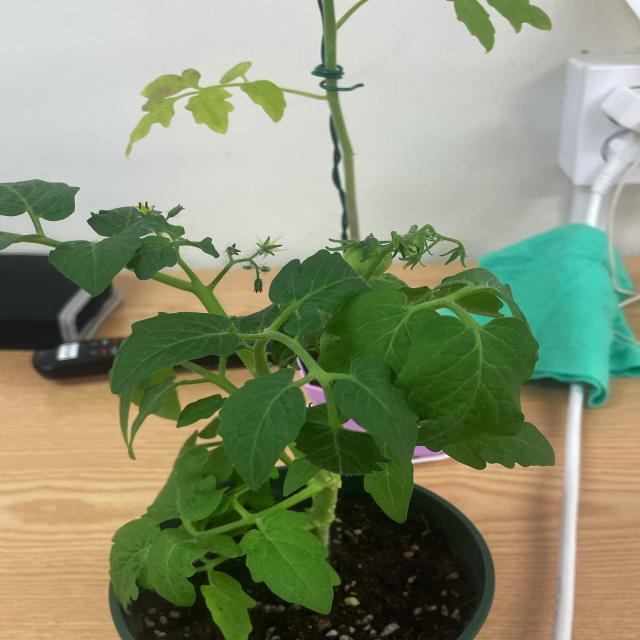level 1: (342, 245, 394, 278), (396, 240, 424, 256), (409, 234, 425, 247)
